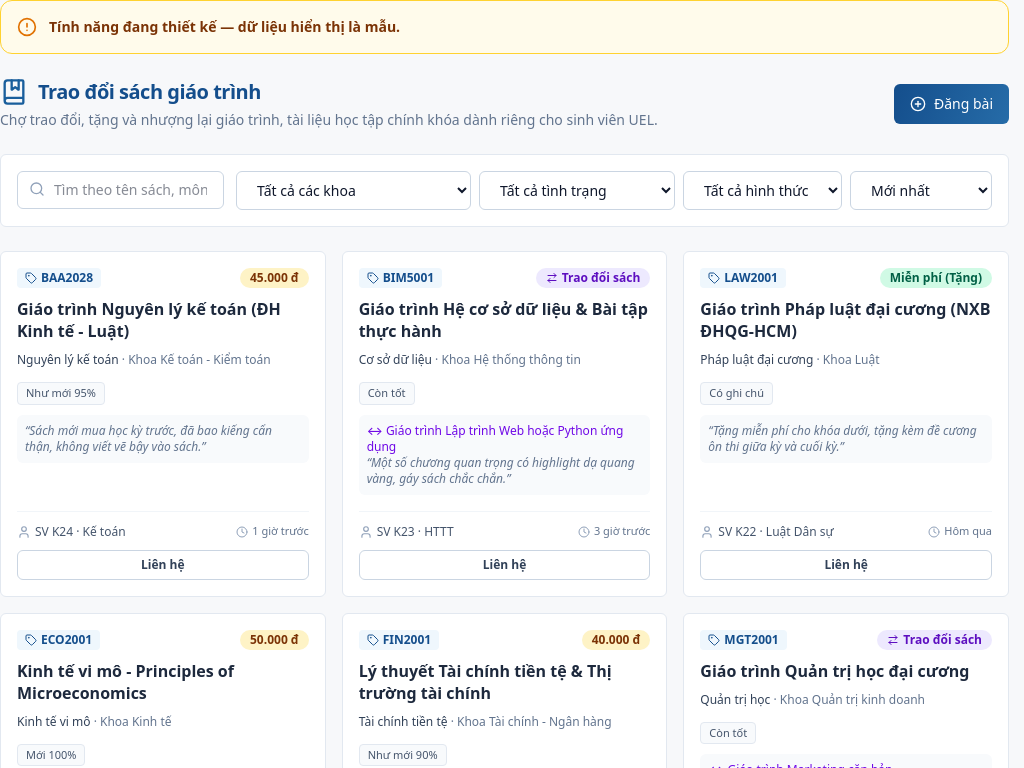
it: W9: Trang Trao đổi sách (/books) › bấm nút Đăng bài mở hộp thoại biểu mẫu kèm banner đăng nhập và nút disabled Sắp ra mắt
Click "Đăng bài" button
Click the button "Đăng bài".
click(951, 104)  # box [894,84,1009,124]
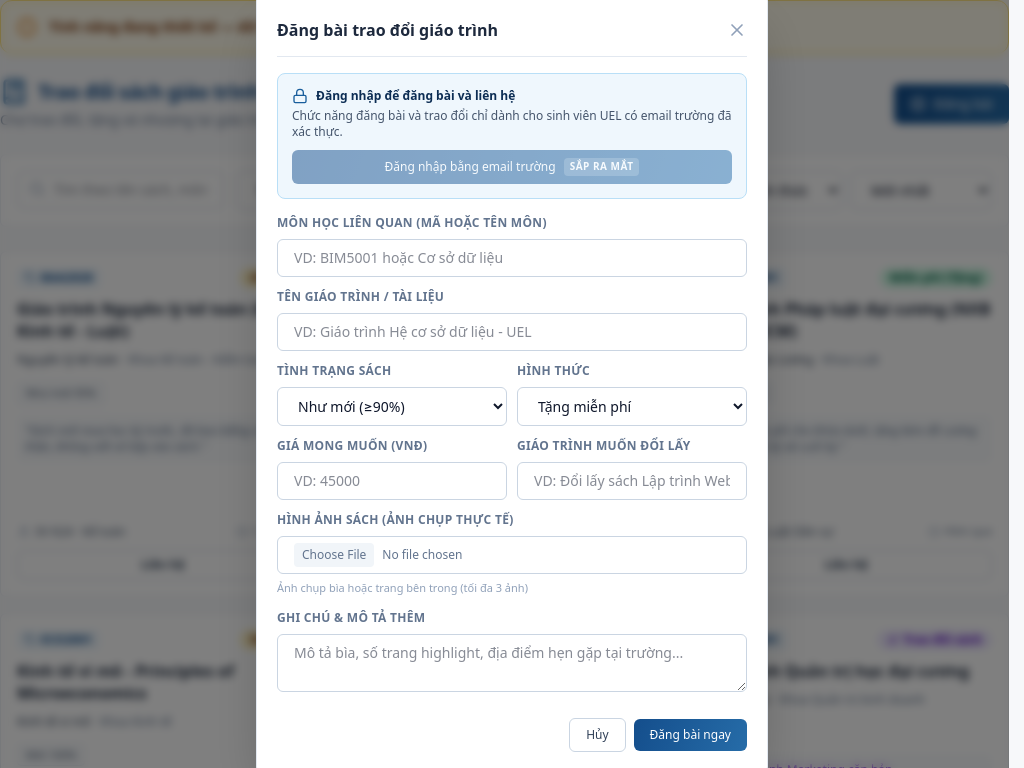
Expected: the dialog is shown
Expected: the heading "Đăng bài trao đổi giáo trình" is shown, [277,18,498,42]
Expected: the text "Đăng nhập để đăng bài và liên hệ" is shown, [316,88,515,104]
